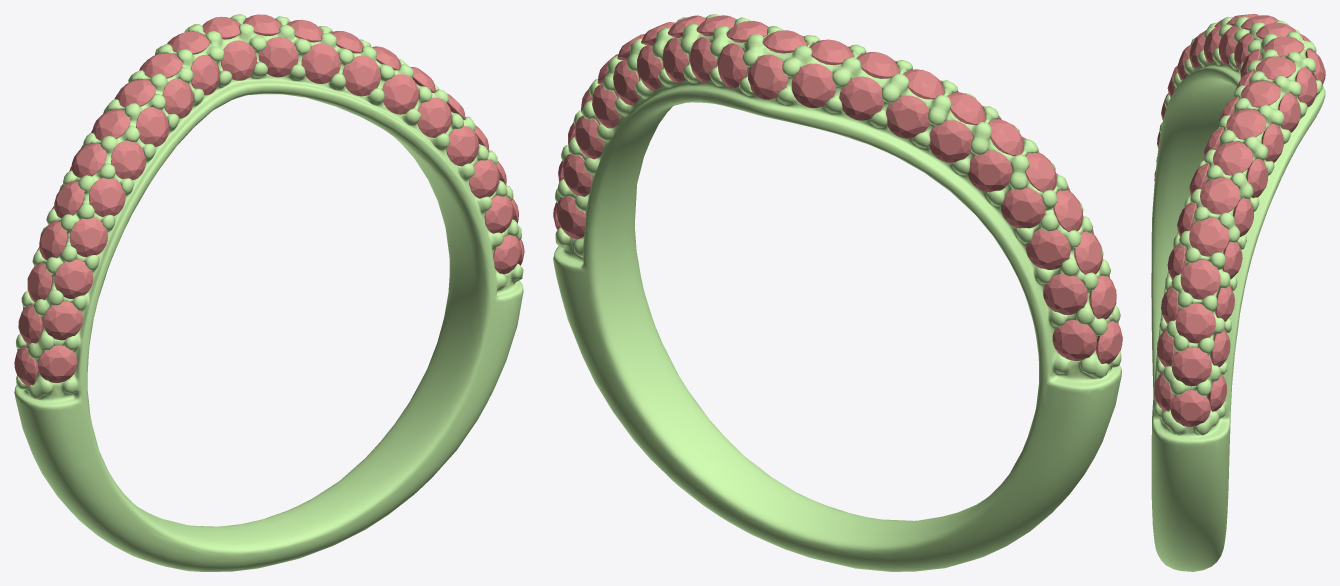
File: BE2D3861LC_RENDER.glb
The picture shows the model from 3 angles, left to right: view 1: azimuth 30°, elevation 25°; view 2: azimuth 150°, elevation 25°; view 3: azimuth 270°, elevation 25°; orthographic projection. The views are drawn at different scales.
Parts seen in each view (by area): view 1: Metal03, Diamond_Round_Gem_BD.013, Diamond_Round_Gem_BD.012, Diamond_Round_Gem_BD.035, Diamond_Round_Gem_BD.036, Diamond_Round_Gem_BD.034, Diamond_Round_Gem_BD.014, Diamond_Round_Gem_BD.033, Diamond_Round_Gem_BD.006, Diamond_Round_Gem_BD.037, Diamond_Round_Gem_BD.041, Diamond_Round_Gem_BD.032 (+18 smaller); view 2: Metal03, Diamond_Round_Gem_BD.050, Diamond_Round_Gem_BD.049, Diamond_Round_Gem_BD.048, Diamond_Round_Gem_BD.047, Diamond_Round_Gem_BD.045, Diamond_Round_Gem_BD.046, Diamond_Round_Gem_BD.043, Diamond_Round_Gem_BD.044, Diamond_Round_Gem_BD.042, Diamond_Round_Gem_BD.052, Diamond_Round_Gem_BD.023 (+19 smaller); view 3: Metal03, Diamond_Round_Gem_BD.054, Diamond_Round_Gem_BD.056, Diamond_Round_Gem_BD.058, Diamond_Round_Gem_BD, Diamond_Round_Gem_BD.001, Diamond_Round_Gem_BD.024, Diamond_Round_Gem_BD.002, Diamond_Round_Gem_BD.003, Diamond_Round_Gem_BD.004, Diamond_Round_Gem_BD.005, Diamond_Round_Gem_BD.022 (+25 smaller).
Part boxes in pixels (bbox=[...]): Metal03: bbox=[14, 14, 523, 571]; Diamond_Round_Gem_BD.013: bbox=[301, 43, 340, 83]; Diamond_Round_Gem_BD.012: bbox=[342, 56, 380, 96]; Diamond_Round_Gem_BD.035: bbox=[54, 259, 93, 298]; Diamond_Round_Gem_BD.036: bbox=[69, 217, 107, 257]; Diamond_Round_Gem_BD.034: bbox=[43, 301, 82, 340]; Diamond_Round_Gem_BD.014: bbox=[259, 37, 298, 77]; Diamond_Round_Gem_BD.033: bbox=[38, 345, 77, 382]; Diamond_Round_Gem_BD.006: bbox=[382, 74, 418, 114]; Diamond_Round_Gem_BD.037: bbox=[89, 178, 125, 216]; Diamond_Round_Gem_BD.041: bbox=[221, 40, 256, 80]; Diamond_Round_Gem_BD.032: bbox=[111, 140, 145, 180]; Metal03: bbox=[553, 14, 1121, 571]; Diamond_Round_Gem_BD.050: bbox=[791, 63, 836, 107]; Diamond_Round_Gem_BD.049: bbox=[839, 76, 884, 120]; Diamond_Round_Gem_BD.048: bbox=[886, 95, 929, 138]; Diamond_Round_Gem_BD.047: bbox=[929, 120, 973, 162]; Diamond_Round_Gem_BD.045: bbox=[968, 150, 1012, 192]; Diamond_Round_Gem_BD.046: bbox=[1001, 187, 1045, 228]; Diamond_Round_Gem_BD.043: bbox=[1043, 273, 1087, 314]; Diamond_Round_Gem_BD.044: bbox=[1026, 228, 1070, 269]; Diamond_Round_Gem_BD.042: bbox=[1052, 320, 1096, 360]; Diamond_Round_Gem_BD.052: bbox=[748, 54, 788, 99]; Diamond_Round_Gem_BD.023: bbox=[717, 43, 747, 88]; Metal03: bbox=[1151, 16, 1325, 571]; Diamond_Round_Gem_BD.054: bbox=[1180, 259, 1220, 299]; Diamond_Round_Gem_BD.056: bbox=[1175, 303, 1215, 343]; Diamond_Round_Gem_BD.058: bbox=[1171, 347, 1211, 386]; Diamond_Round_Gem_BD: bbox=[1189, 217, 1229, 256]; Diamond_Round_Gem_BD.001: bbox=[1200, 177, 1239, 214]; Diamond_Round_Gem_BD.024: bbox=[1170, 390, 1210, 427]; Diamond_Round_Gem_BD.002: bbox=[1213, 141, 1252, 175]; Diamond_Round_Gem_BD.003: bbox=[1226, 109, 1266, 139]; Diamond_Round_Gem_BD.004: bbox=[1240, 80, 1280, 107]; Diamond_Round_Gem_BD.005: bbox=[1256, 56, 1295, 79]; Diamond_Round_Gem_BD.022: bbox=[1278, 93, 1300, 132].
Bounding box in the file's own units: 21.15 × 20.41 × 6.42.
